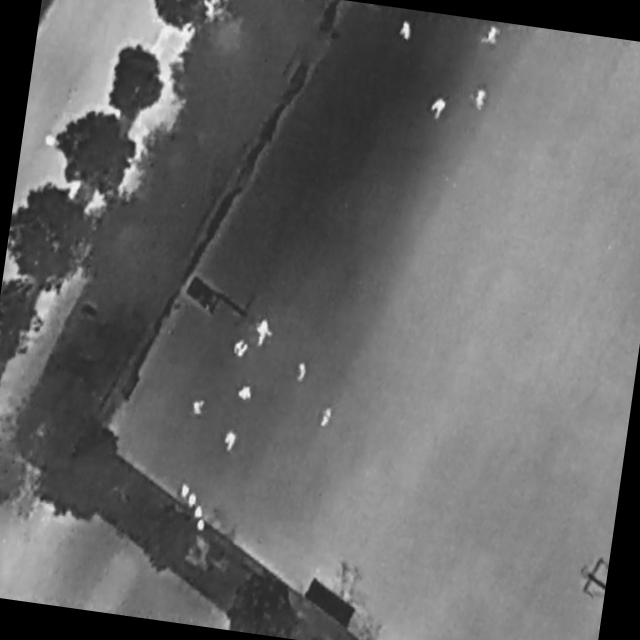person: (249, 314, 278, 352), (427, 92, 451, 125), (230, 334, 253, 363), (482, 22, 503, 48), (220, 429, 240, 456), (318, 406, 336, 433), (474, 88, 488, 112), (399, 21, 414, 43), (237, 385, 254, 403), (191, 398, 206, 418), (297, 360, 308, 386)
